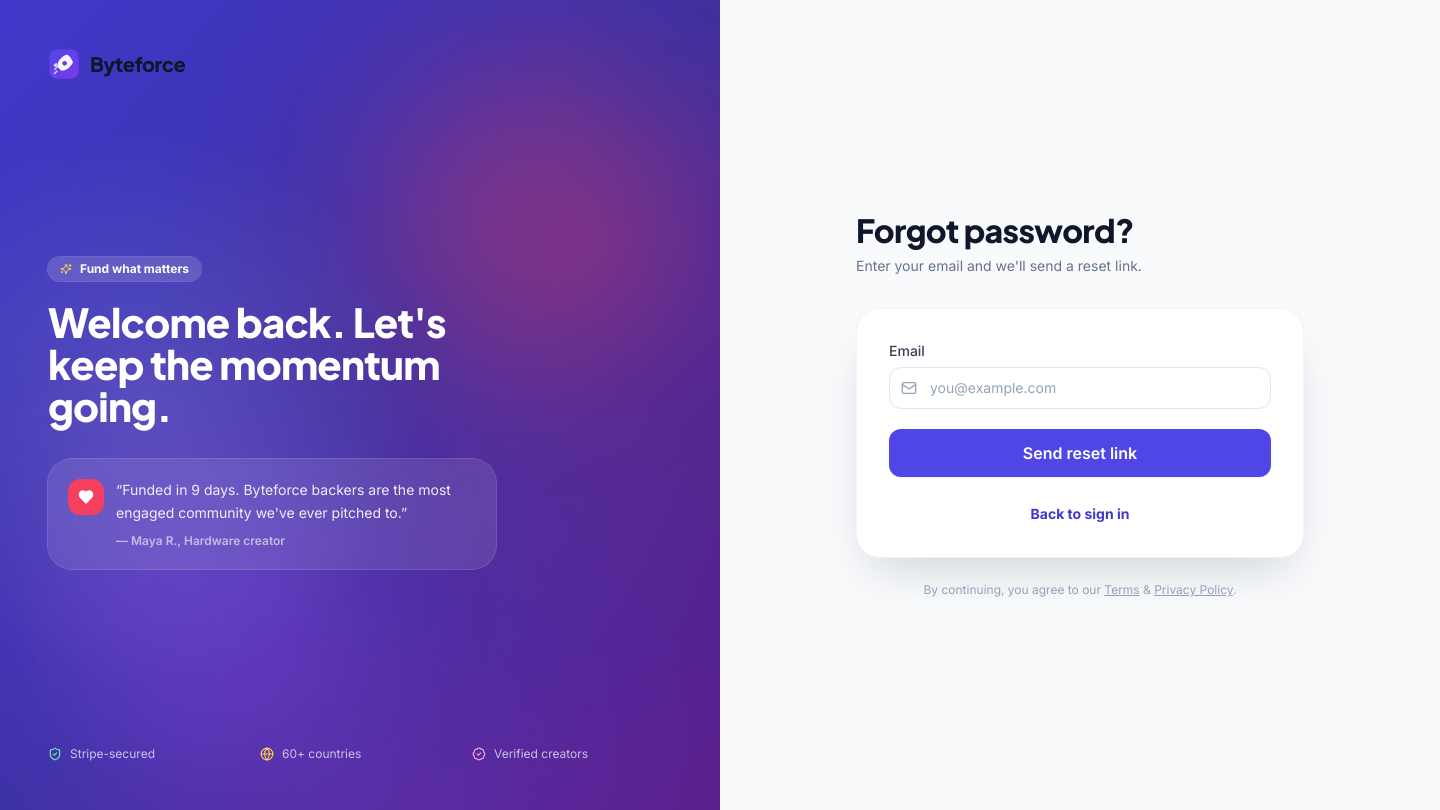
Scenario: ForgotPasswordPage › shows validation error for invalid email
Type "notanemail" into the field with placeholder "you@example.com" at [1080, 388], box [889,367,1271,409]
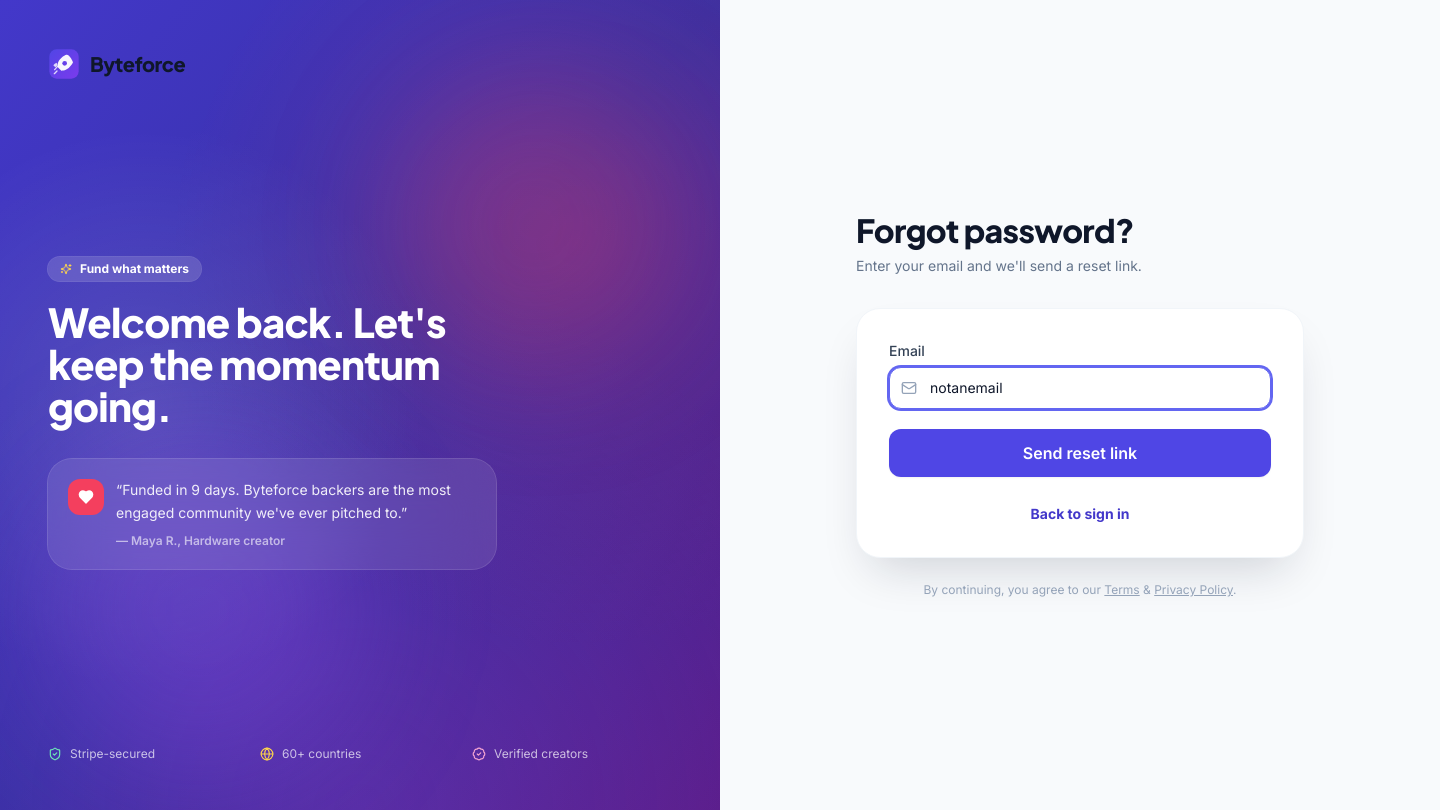
Click the button "Send reset link" at [1080, 453], box [889,429,1271,477]
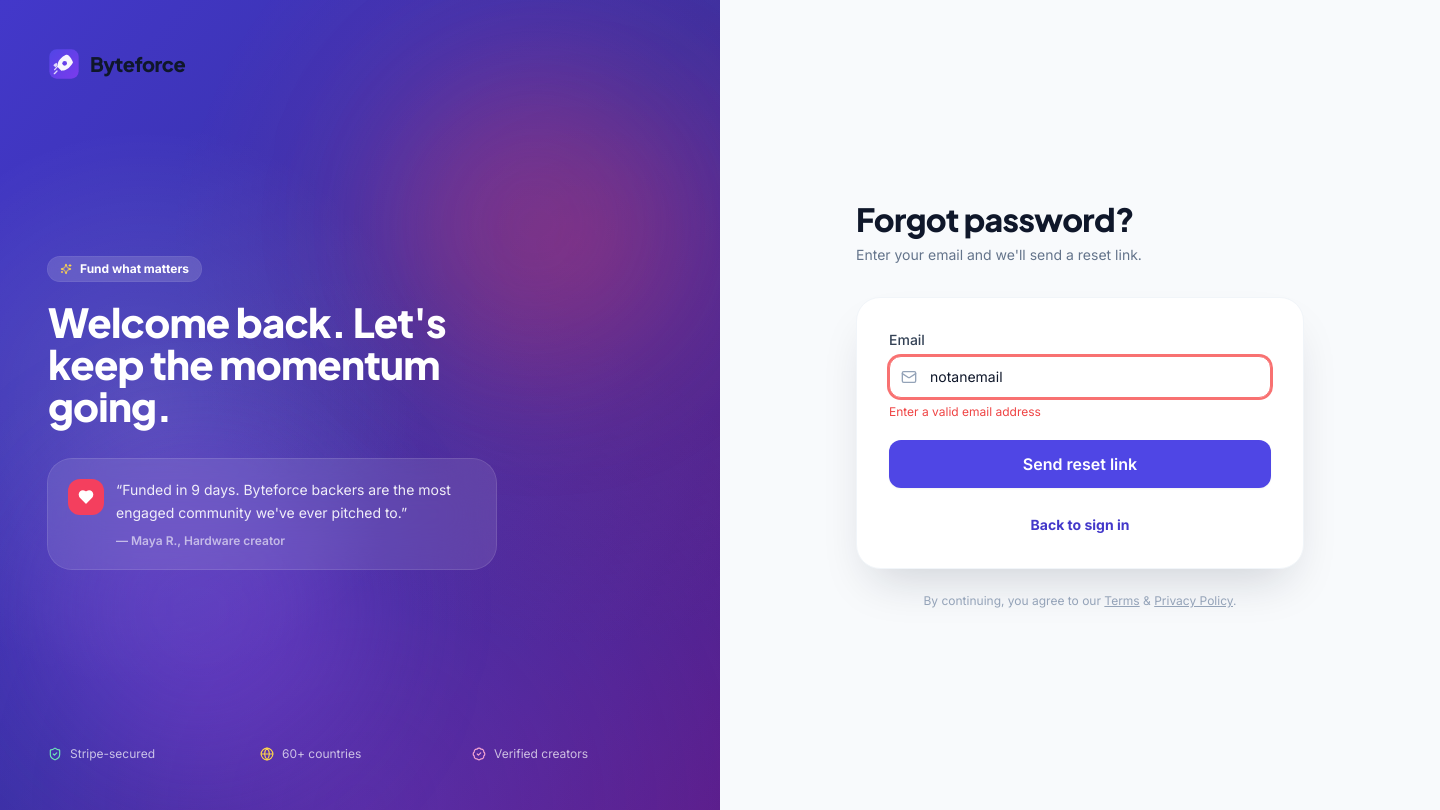
expect the text "Enter a valid email address" is shown: met, box [889,404,1041,419]
